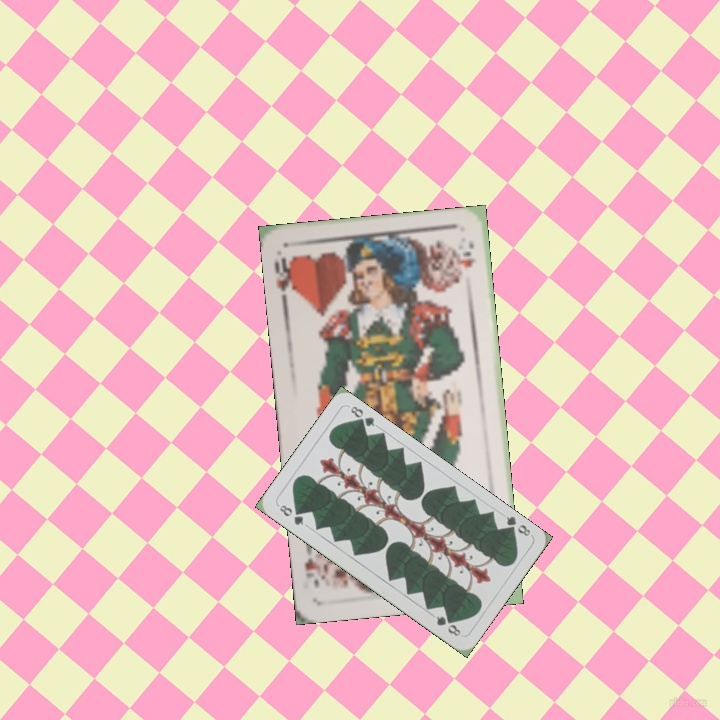G8: (501, 512, 533, 539), (275, 501, 306, 528)
HO: (270, 252, 299, 296)
